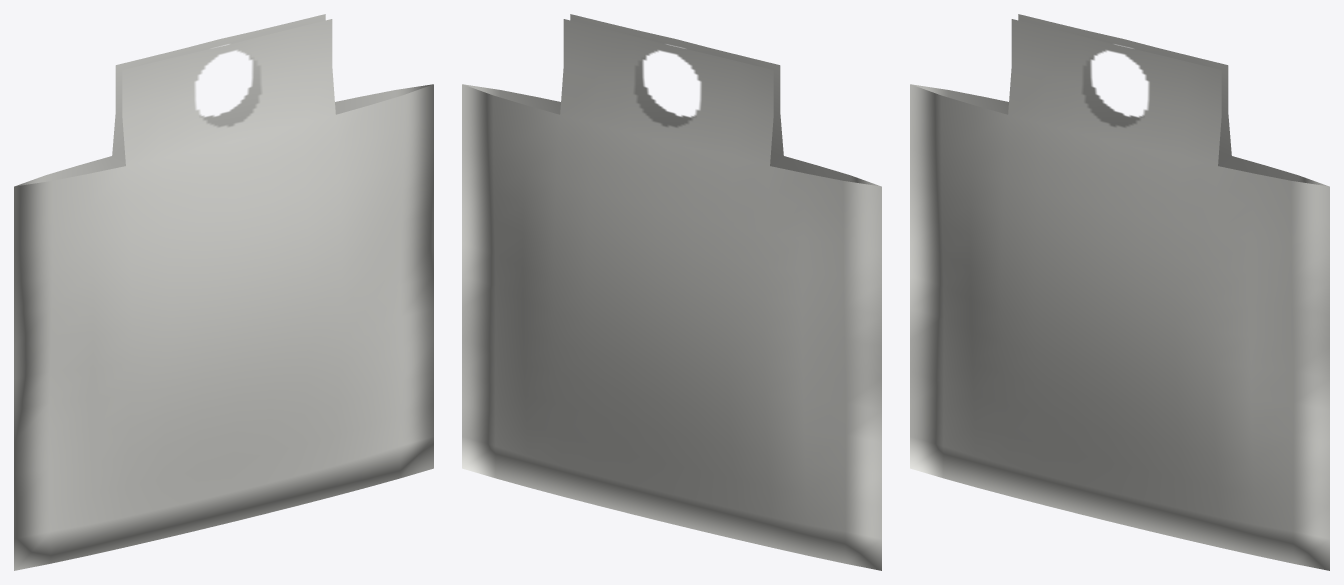
File: rental-bag-rest.glb
3 views of the same model, side by side, from view 1: azimuth 30°, elevation 25°; view 2: azimuth 150°, elevation 25°; view 3: azimuth 330°, elevation 25° (orthographic).
Parts seen in each view (by area): view 1: Rental bag authored rest mesh; view 2: Rental bag authored rest mesh; view 3: Rental bag authored rest mesh.
Part boxes in pixels (x1=…): Rental bag authored rest mesh: x1=14, y1=14, x2=433, y2=570; Rental bag authored rest mesh: x1=462, y1=14, x2=881, y2=570; Rental bag authored rest mesh: x1=910, y1=14, x2=1329, y2=570.
Bounding box in the file's own units: 1.6 × 1.74 × 0.216.
Materials: 1 (1 with a texture image).
